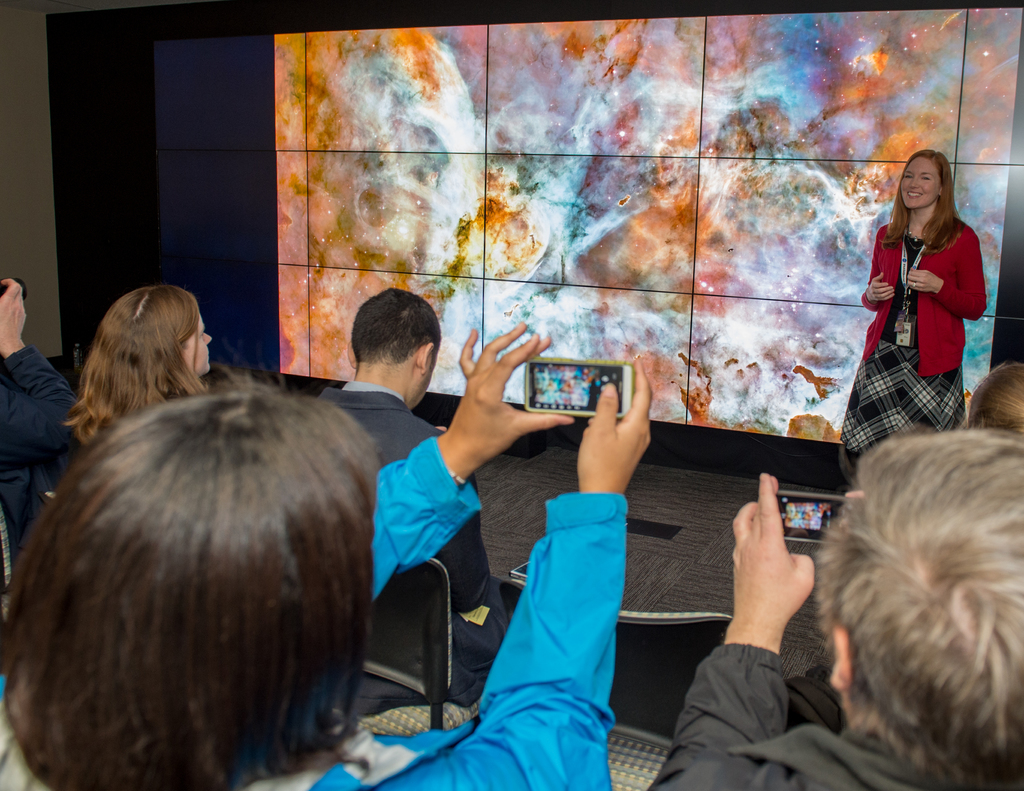Human-face: (181, 310, 215, 376), (900, 155, 938, 212)
